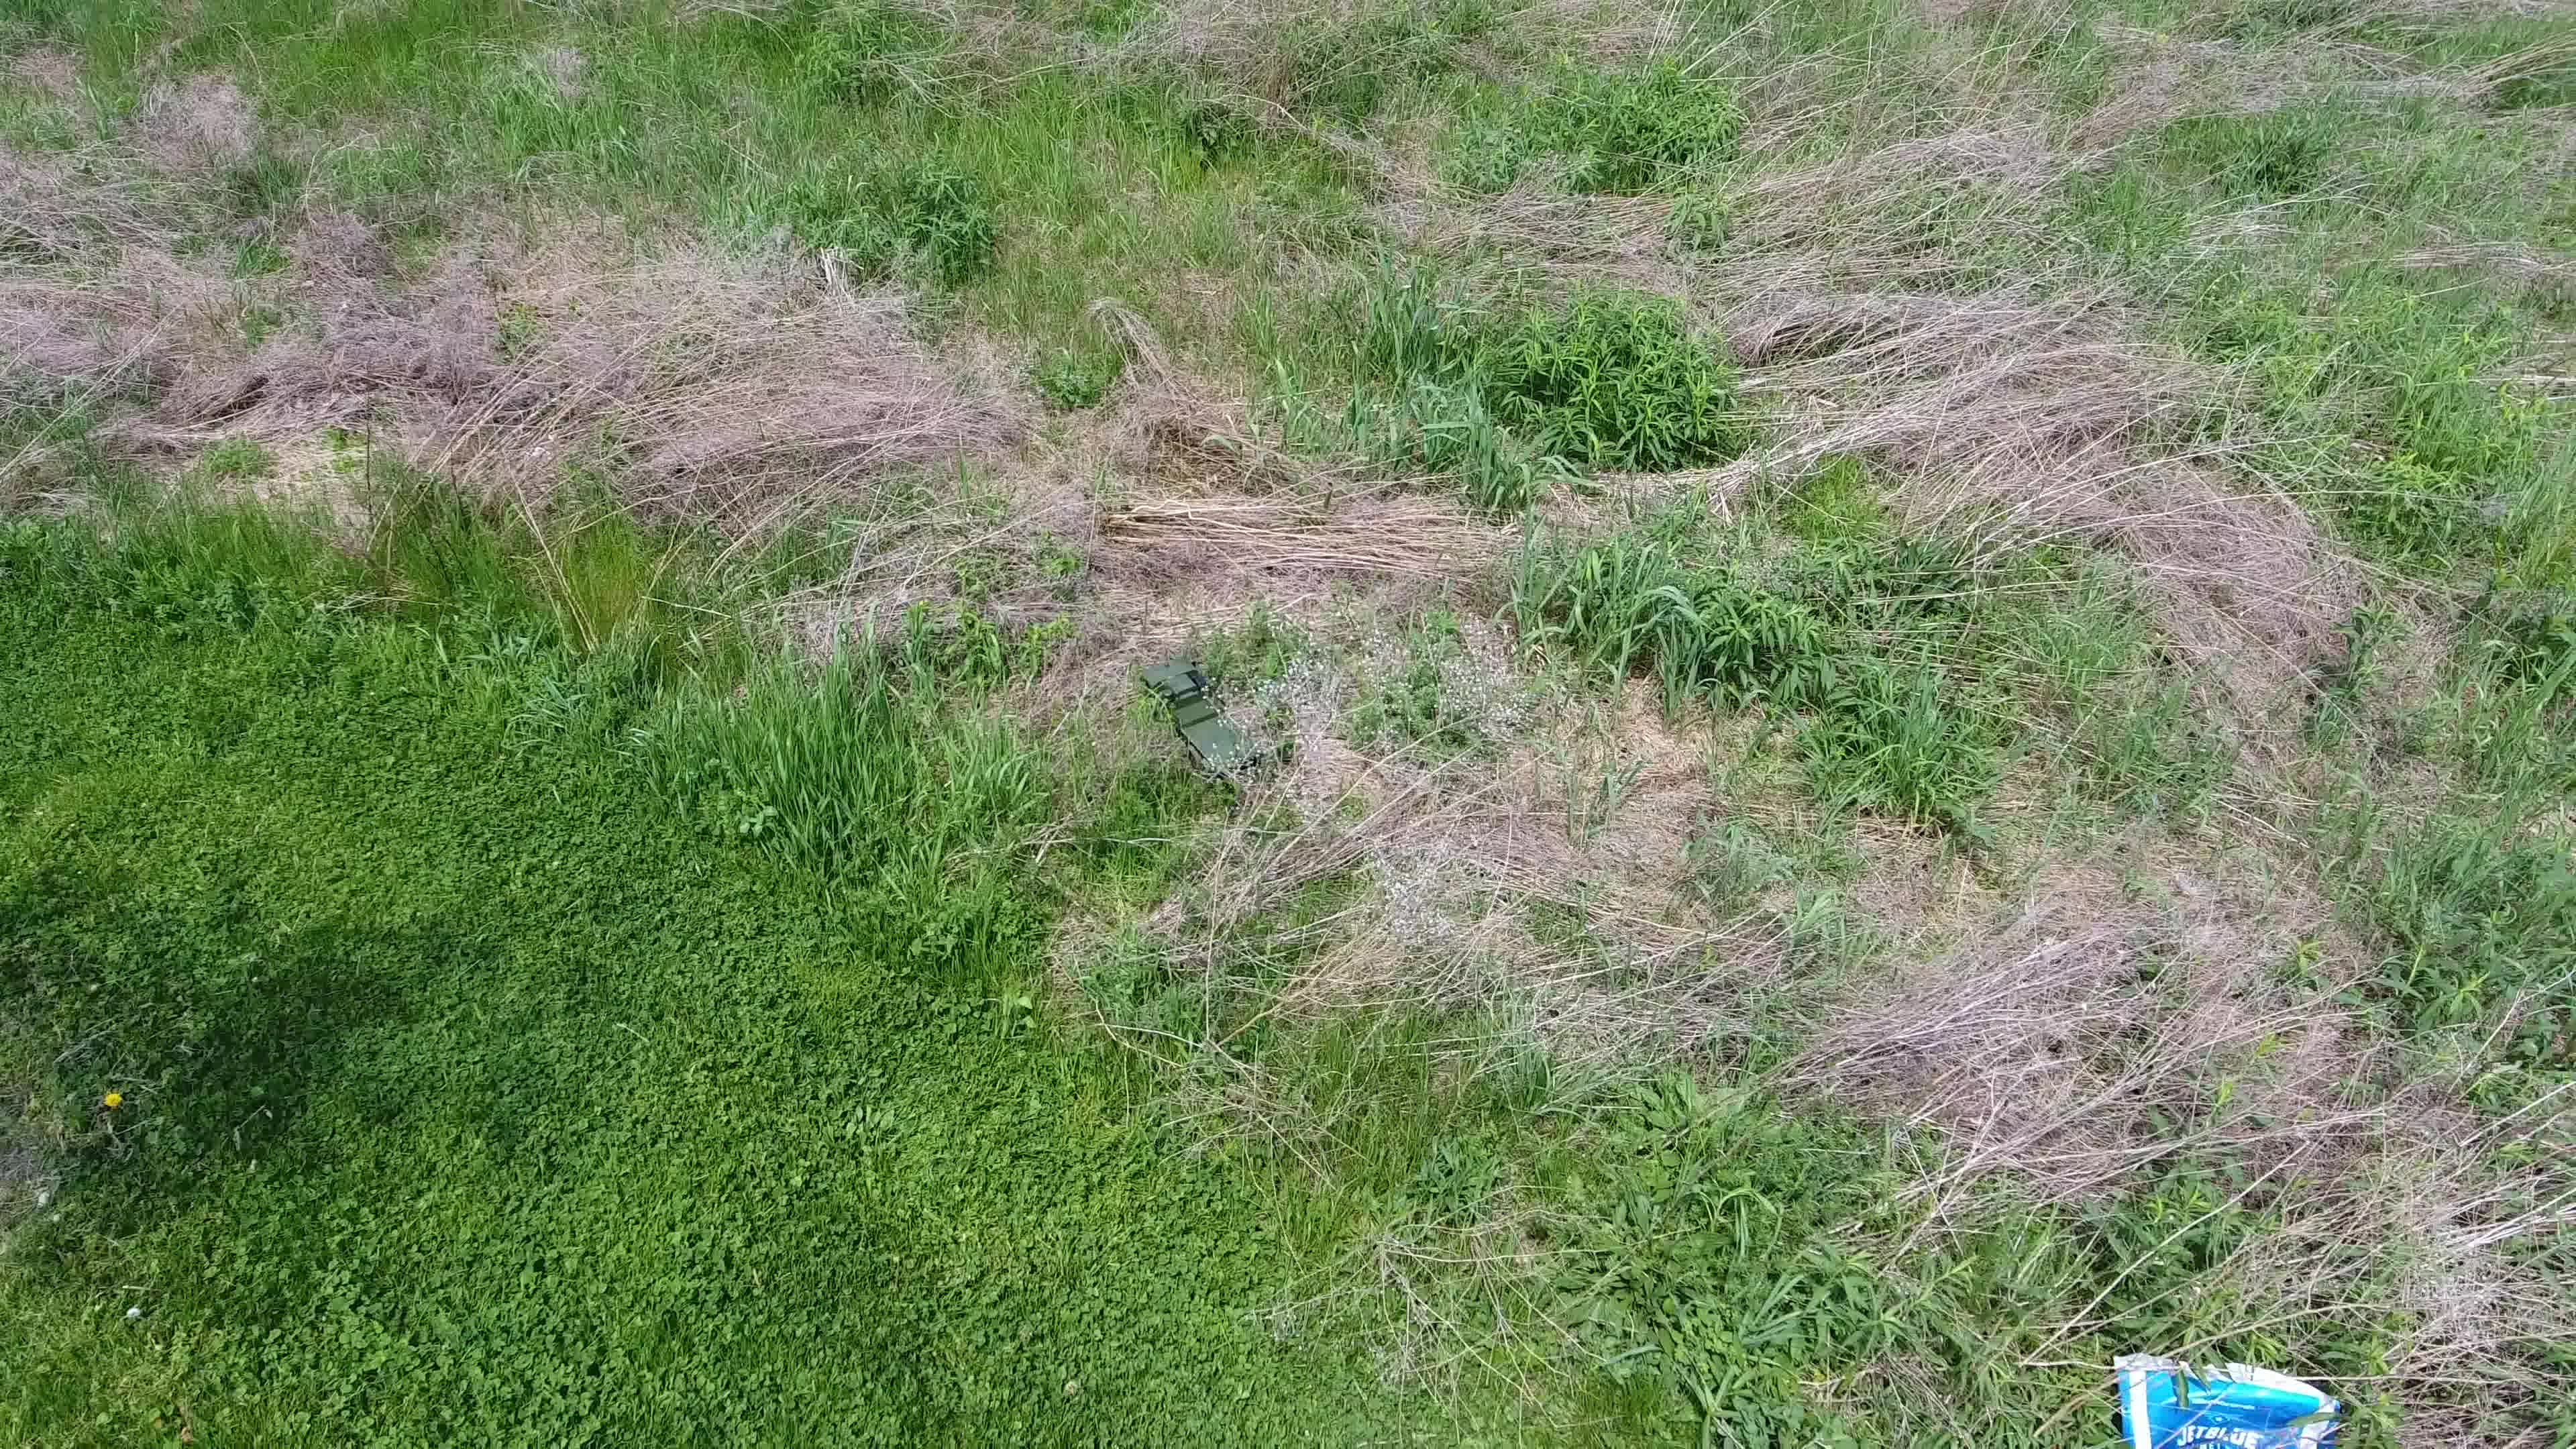transporter9: (1138, 655, 1265, 777)
